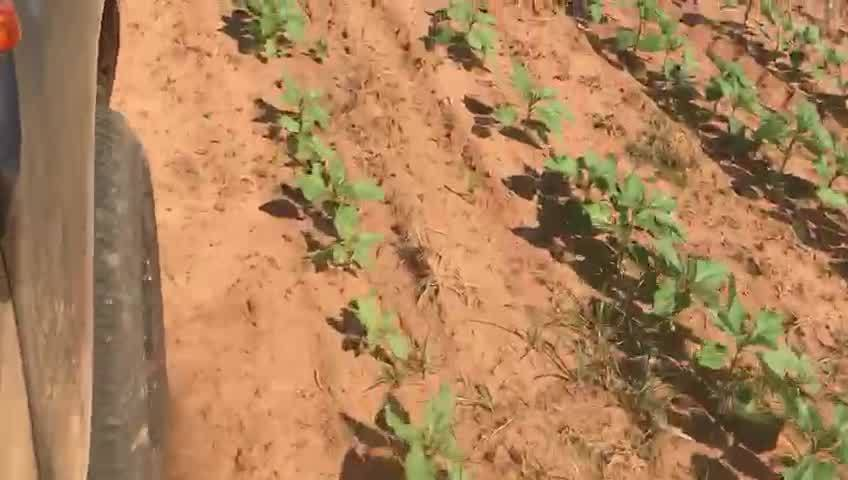sunflower: (700, 293, 805, 416), (751, 348, 837, 476), (739, 106, 836, 198), (638, 239, 727, 337), (370, 390, 472, 475), (606, 180, 687, 285), (527, 153, 636, 230), (282, 134, 382, 212), (336, 286, 410, 375), (315, 196, 398, 275), (512, 56, 578, 154), (261, 71, 338, 139), (424, 8, 505, 72), (773, 14, 837, 92), (241, 3, 329, 55), (620, 8, 684, 65), (704, 63, 754, 124), (660, 45, 705, 109)
